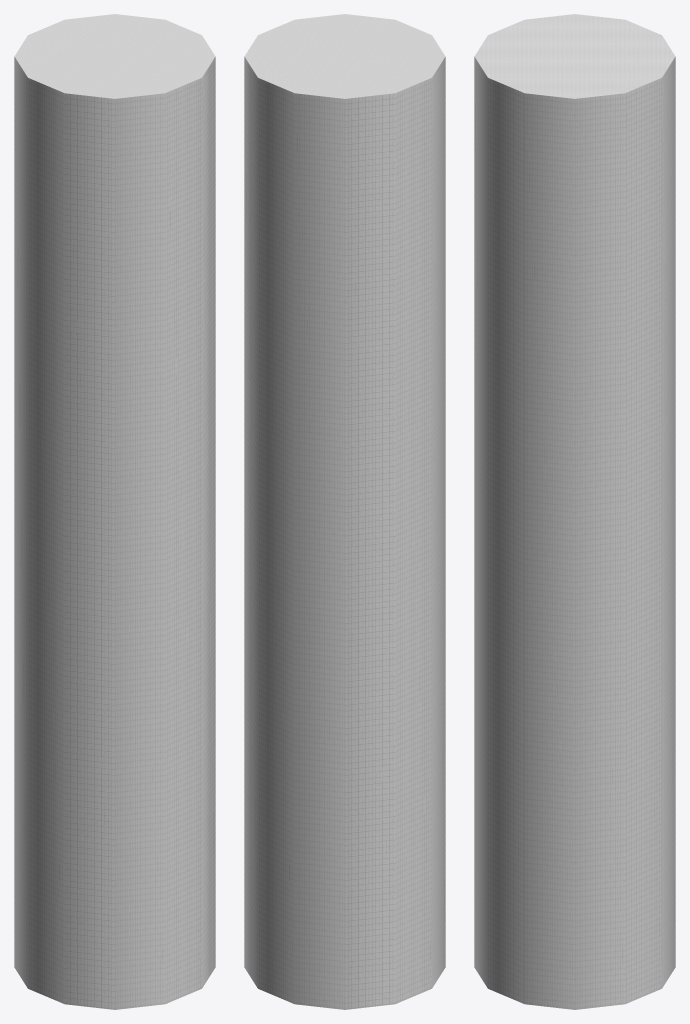
File: RoundCol.fbx
The picture shows the model from 3 angles, left to right: view 1: azimuth 30°, elevation 25°; view 2: azimuth 150°, elevation 25°; view 3: azimuth 270°, elevation 25°; orthographic projection.
Parts seen in each view (by area): view 1: RoundCol; view 2: RoundCol; view 3: RoundCol.
Part boxes in pixels (bbox=[...]): RoundCol: bbox=[14, 14, 215, 1009]; RoundCol: bbox=[244, 14, 445, 1009]; RoundCol: bbox=[474, 14, 675, 1009].
Bounding box in the file's own units: 10 × 10 × 50.
